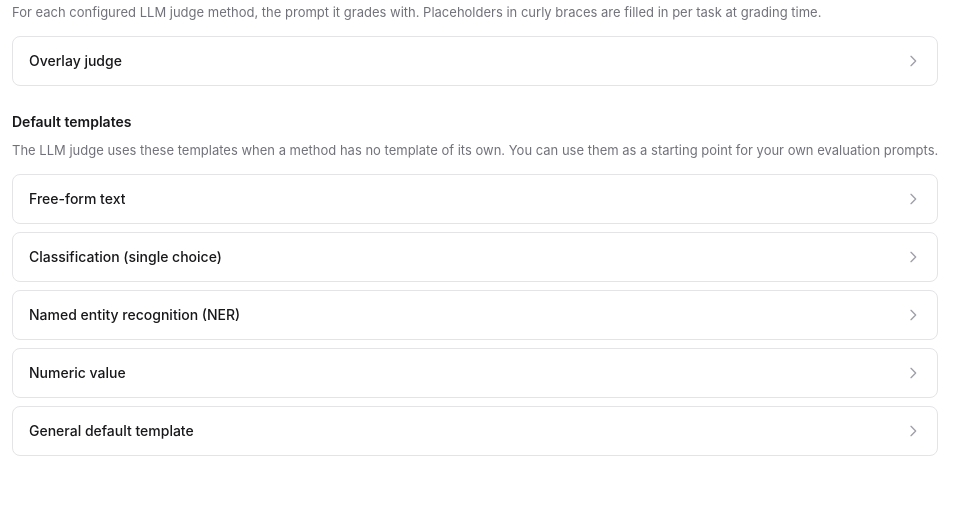
Test: EvaluationPromptsOverview › renders an overlay prompt preview when one is registered
Click the button "Overlay judge" at [75, 60], box [13,37,937,85]
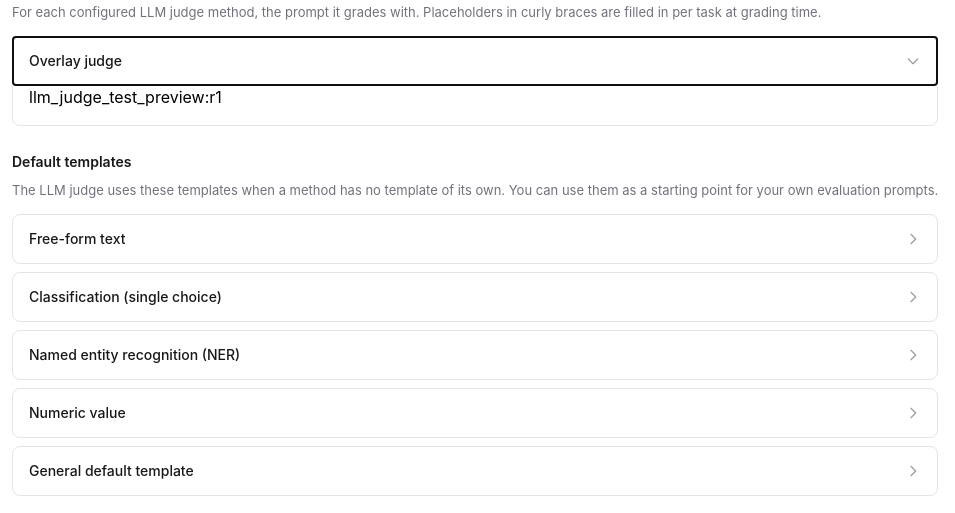
Check: the text with test id "overlay-preview" reads "llm_judge_test_preview:r1", box [29,87,222,107]
